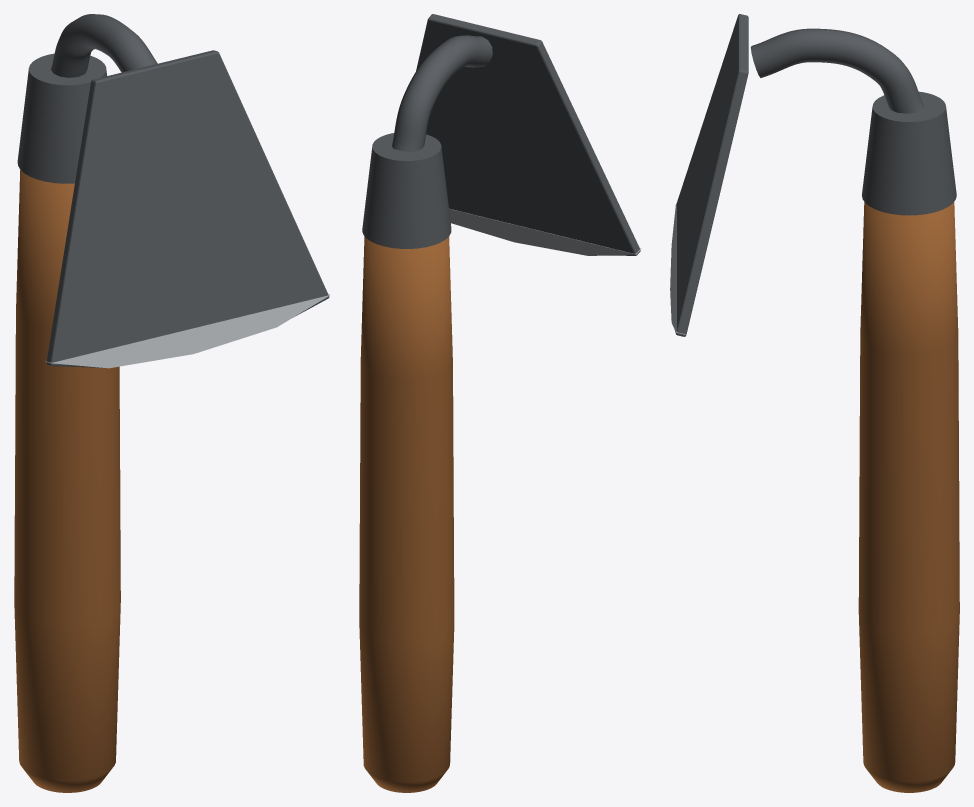
Rendered from item-5.glb.
3 views of the same model, side by side, from view 1: azimuth 30°, elevation 25°; view 2: azimuth 150°, elevation 25°; view 3: azimuth 270°, elevation 25° (orthographic). The views are drawn at different scales.
Parts seen in each view (by area): view 1: blade, handle, ferrule, edge, neck; view 2: handle, blade, ferrule, neck, edge; view 3: handle, blade, ferrule, neck, edge.
Part boxes in pixels (x1,y1,x2,y2): blade: [46, 50, 329, 367]; handle: [14, 170, 120, 792]; ferrule: [17, 53, 106, 183]; edge: [45, 294, 329, 368]; neck: [51, 14, 157, 77]; handle: [359, 236, 454, 792]; blade: [416, 14, 640, 255]; ferrule: [362, 133, 451, 248]; neck: [392, 35, 492, 152]; edge: [449, 208, 641, 255]; handle: [858, 202, 959, 792]; blade: [675, 14, 748, 336]; ferrule: [862, 91, 956, 215]; neck: [750, 28, 924, 113]; edge: [670, 203, 686, 334].
Bounding box in the file's own units: 0.1 × 0.2695 × 0.0946.
